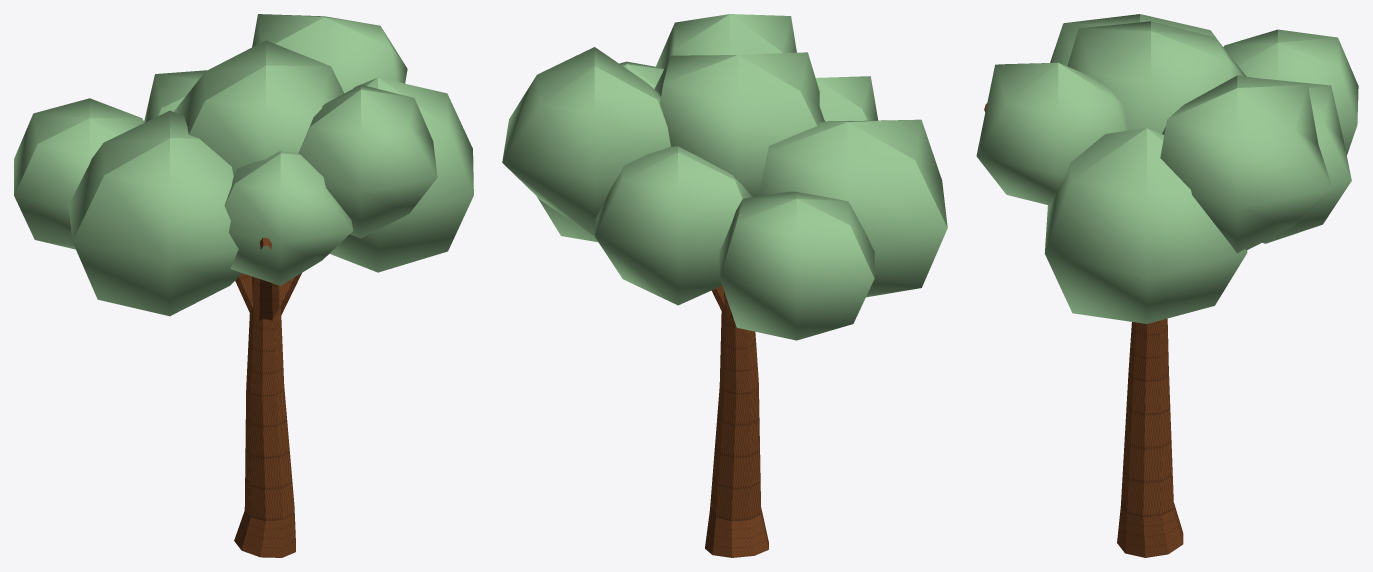
The model's file is green-canopy-tree.glb.
3 renders of one model, left to right at view 1: azimuth 30°, elevation 25°; view 2: azimuth 150°, elevation 25°; view 3: azimuth 270°, elevation 25°, orthographic. The views are drawn at different scales.
Parts seen in each view (by area): view 1: oak-mature; view 2: oak-mature; view 3: oak-mature.
Boxes of the visible parts, <box> form: oak-mature: <box>14,14,473,557</box>; oak-mature: <box>502,14,947,557</box>; oak-mature: <box>976,14,1358,557</box>.
Bounding box in the file's own units: 4.45 × 5.08 × 3.43.
2 materials, 1 textured.
